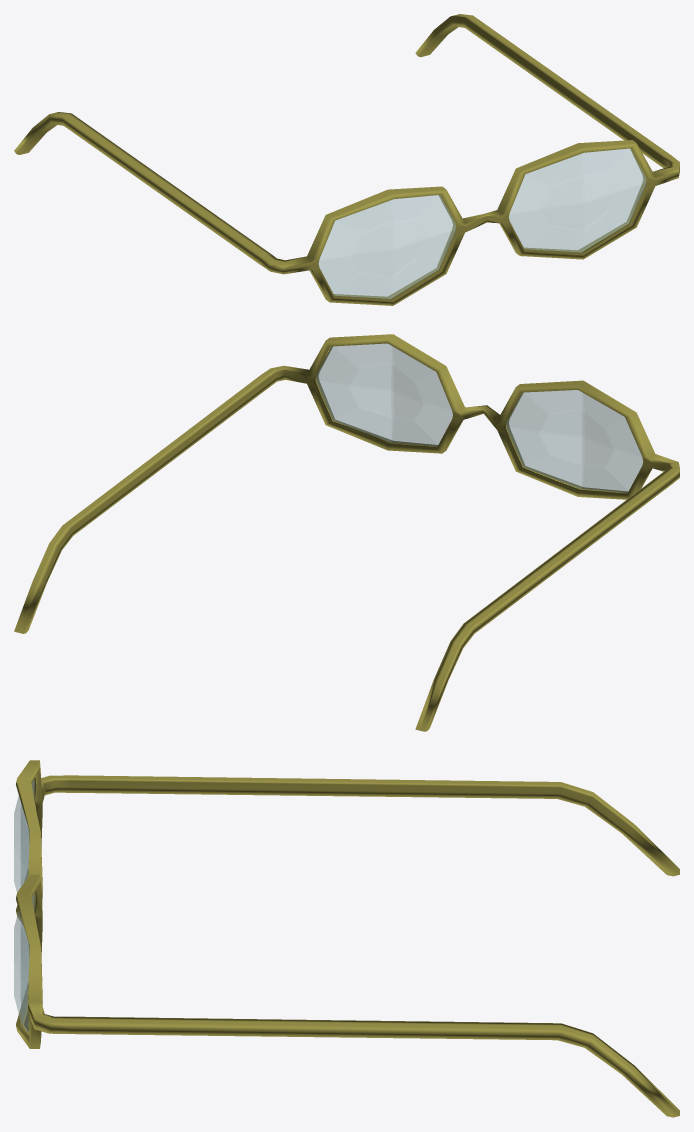
The model's file is Glasses.fbx.
3 views of the same model, one above another, from view 1: azimuth 30°, elevation 25°; view 2: azimuth 150°, elevation 25°; view 3: azimuth 270°, elevation 25° (orthographic). The views are drawn at different scales.
Visible parts, largest first — view 1: pCube1, pCube2, pCube3; view 2: pCube1, pCube2, pCube3; view 3: pCube1, pCube2, pCube3.
Part boxes in pixels (x1=…): pCube1: x1=14, y1=14, x2=679, y2=305; pCube2: x1=509, y1=148, x2=646, y2=252; pCube3: x1=318, y1=195, x2=456, y2=298; pCube1: x1=14, y1=334, x2=679, y2=731; pCube2: x1=316, y1=343, x2=452, y2=446; pCube3: x1=506, y1=390, x2=643, y2=492; pCube1: x1=16, y1=760, x2=679, y2=1117; pCube2: x1=14, y1=893, x2=34, y2=1032; pCube3: x1=14, y1=779, x2=34, y2=891.
Bounding box in the file's own units: 3.83 × 1.15 × 4.36.
